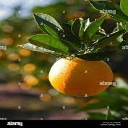orange: (47, 44, 115, 97)
